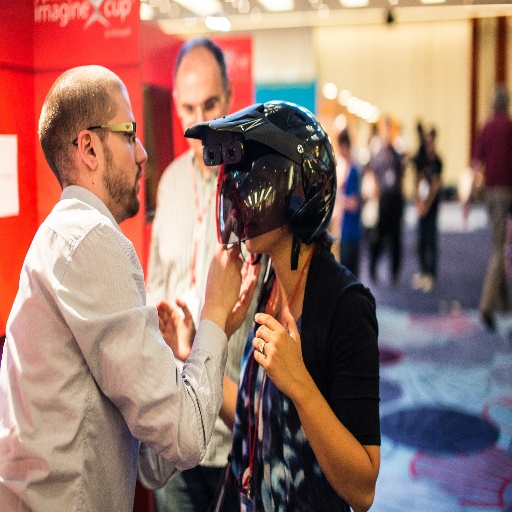hand: (251, 305, 305, 400), (224, 251, 262, 338), (202, 242, 244, 316), (155, 296, 197, 364)
